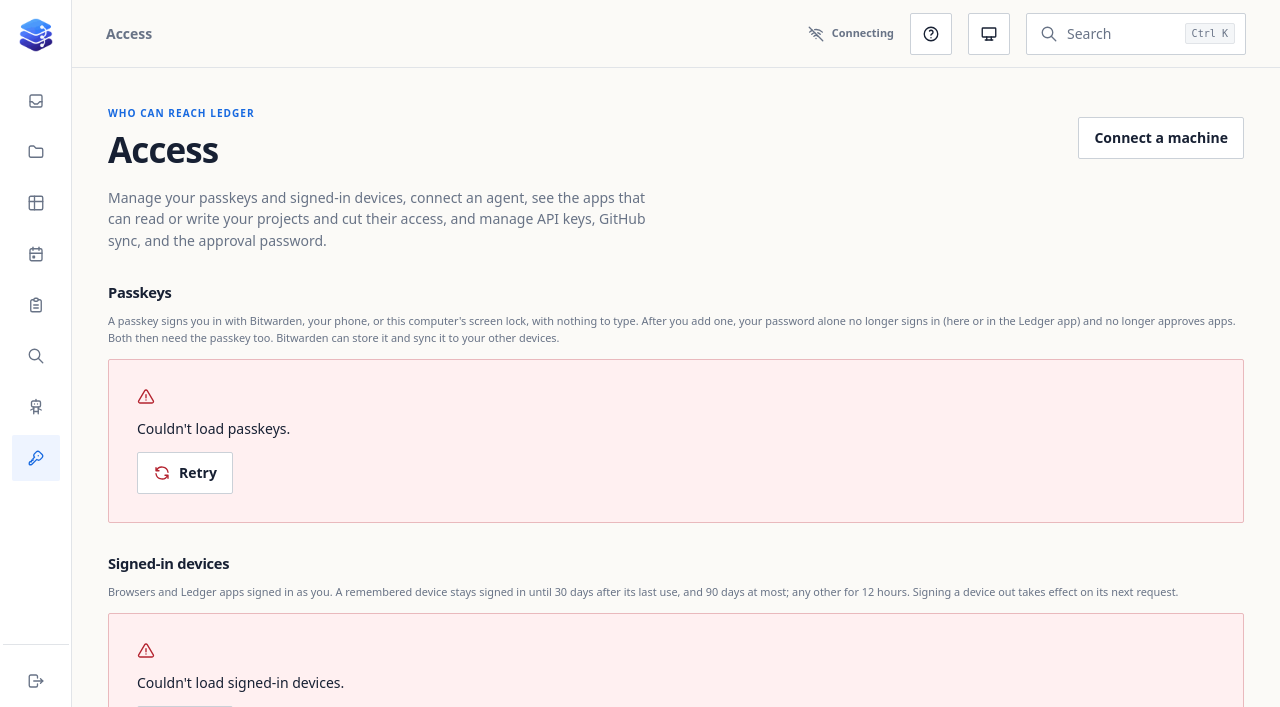
Test: authenticated shell and routing › keeps the authenticated shell and reports an error when sign-out fails
This screenshot has width=1280, height=707.
Expected: the heading "Access" is shown, [108,126,218,173]
Step 1. Click the button named "sign out" → (36, 681), box [12,660,60,702]
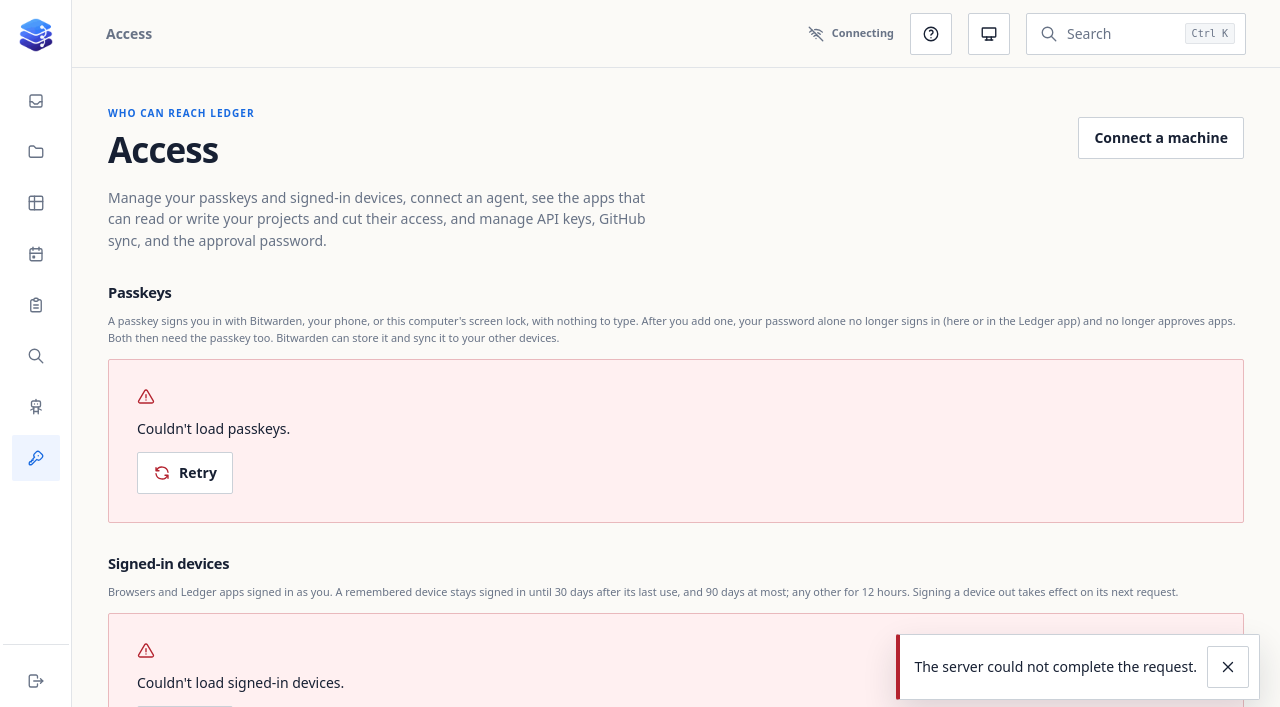
Expected: the heading "Access" is shown, [108,126,218,173]
Now the message named "notifications" shows "server could not complete the request", box [914,657,1197,676]
